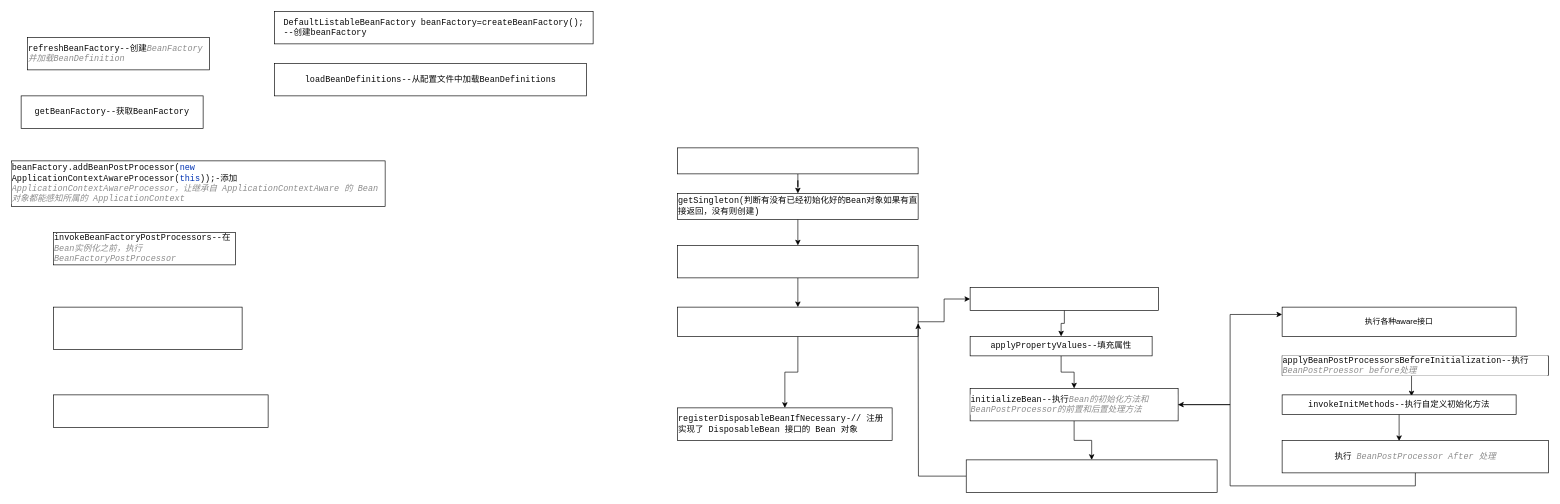
The diagram is 1560 pixels wide and 504 high, and some of its shapes have lost their labels. Here are the shapes that lost their labels. From the top down, the box of each, then its label:
(677, 147, 918, 174): getBean--获取Bean对象(实际执行doGetBean方法 )
(677, 245, 918, 278): getBeanDefinition--获取对应的BeanDefinition
(969, 287, 1159, 310): createBeanInstance--执行对应的构造函数
(53, 306, 242, 349): registerBeanPostProcessors-BeanPostProcessor 需要提前于其他 Bean 对象实例化之前执行注册操作
(677, 306, 918, 336): createBean--创建Bean对象（也就是出初始化）
(53, 394, 268, 427): beanFactory.preInstantiateSingletons()-提前实例化单例 Bean 对象
(966, 459, 1217, 492): addSingleton(beanName,bean);--将创建好的对象加入到单例bean集合中
